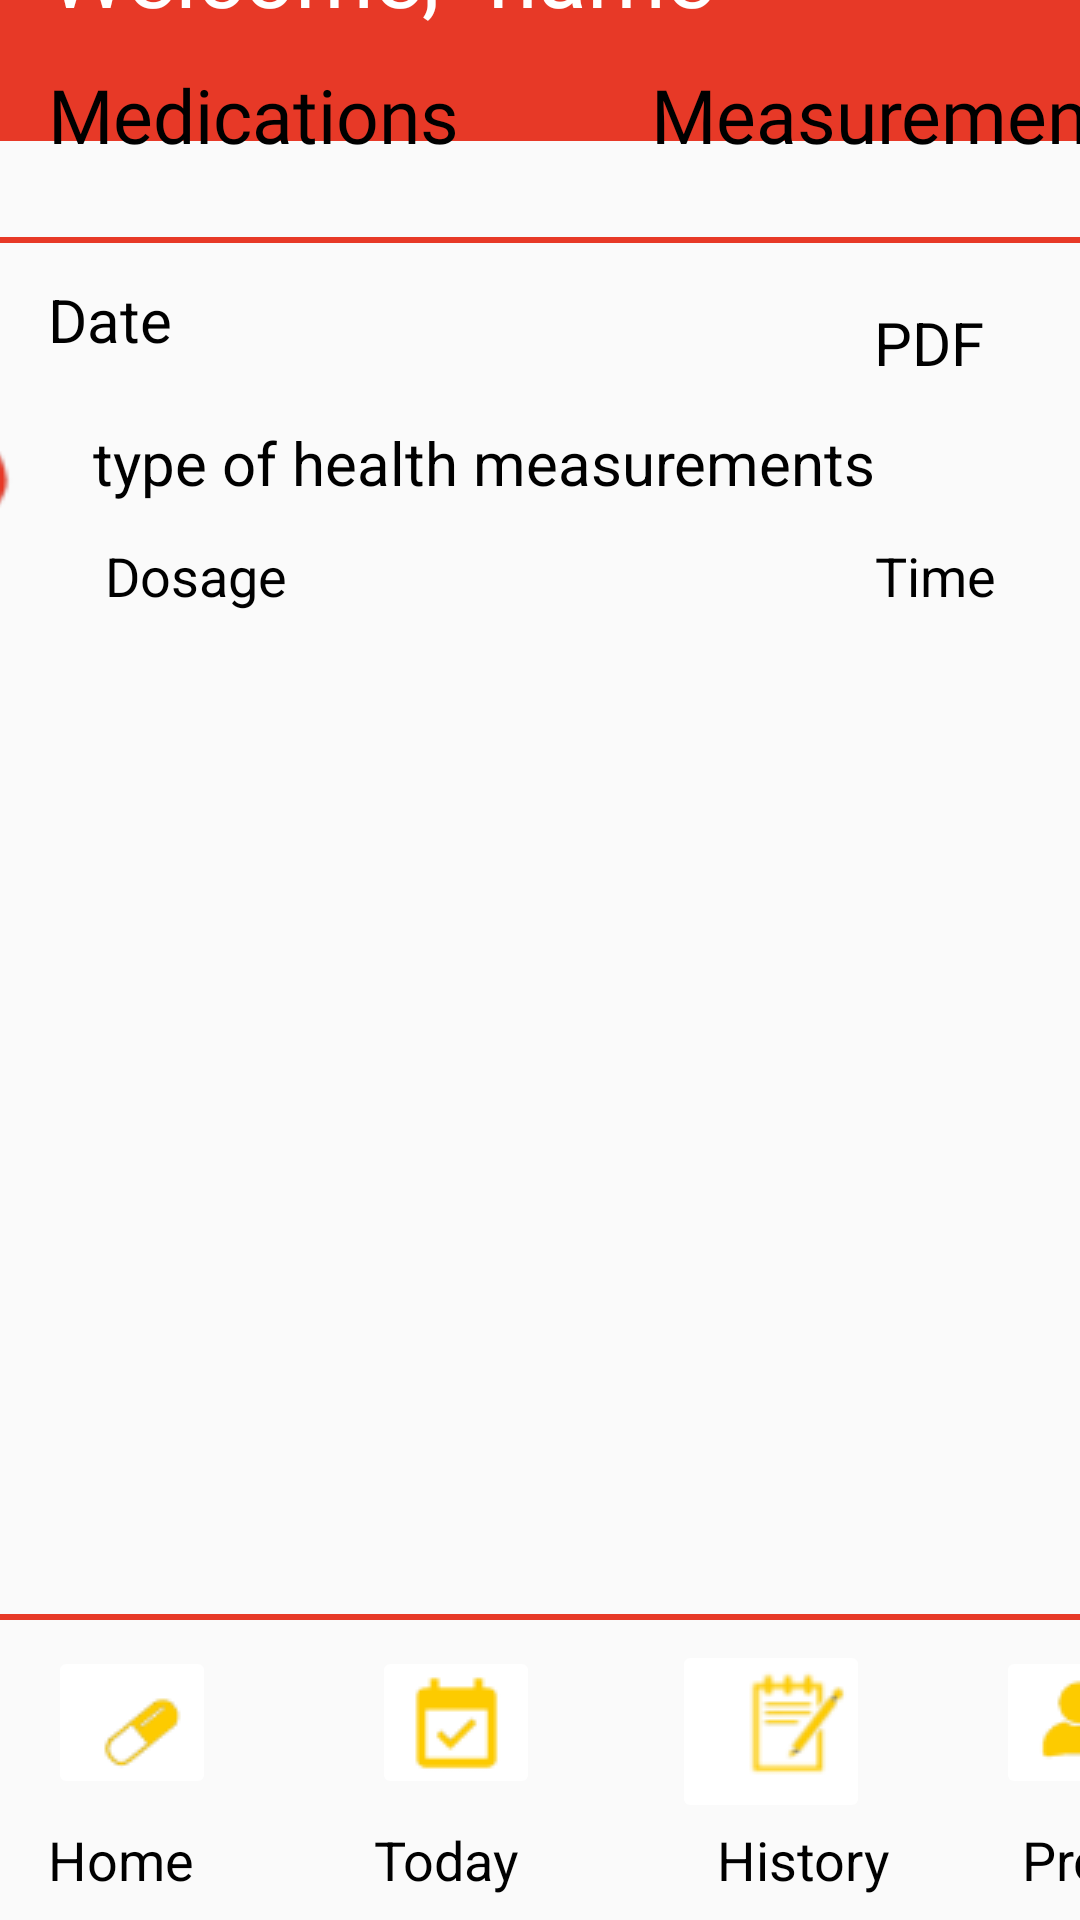

Named icons in this screenshot (1080px x 1920px) and their centers, (x,y):
calendarr: (456,1723)
